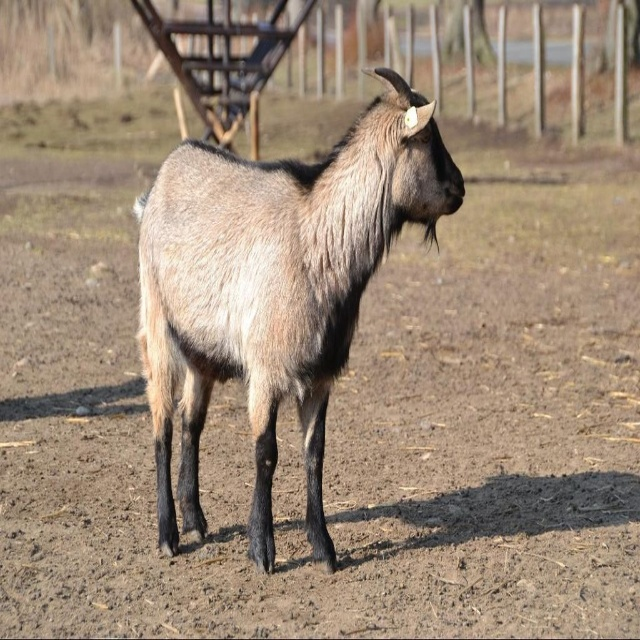Goat: (129, 67, 465, 575)
